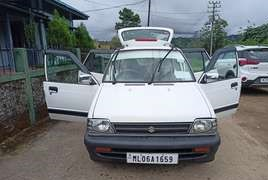ML06A1659: (126, 152, 178, 164)
